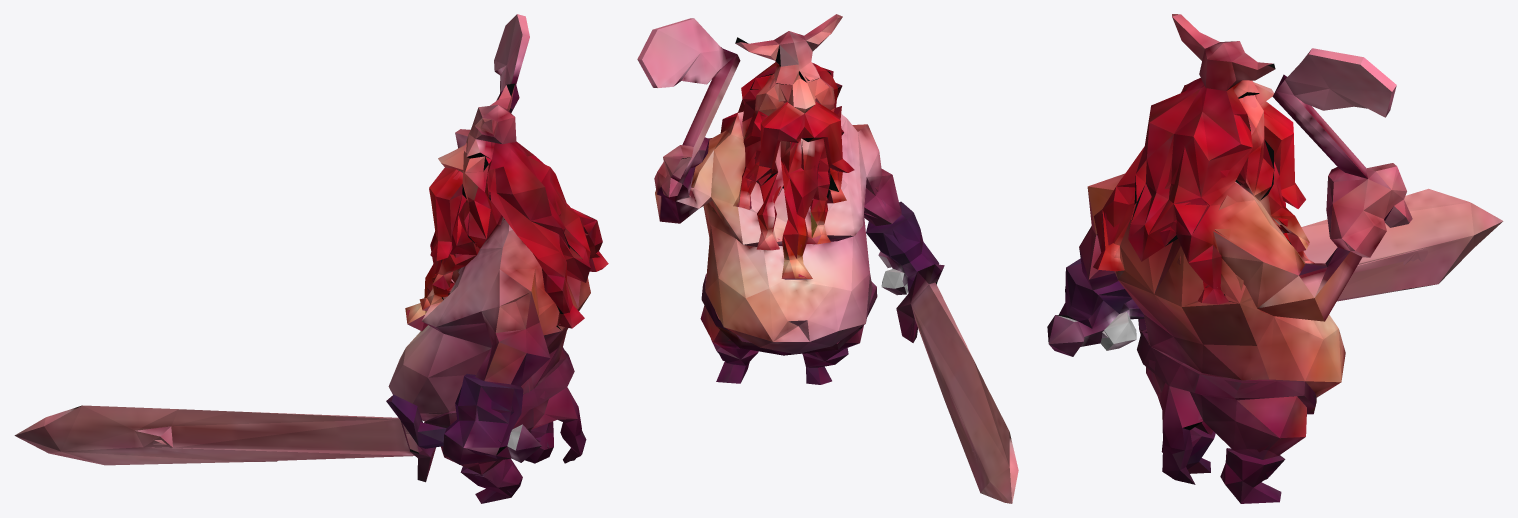
File: dwarf_LOD1.glb
3 renders of one model, left to right at view 1: azimuth 30°, elevation 25°; view 2: azimuth 150°, elevation 25°; view 3: azimuth 270°, elevation 25°, orthographic. The views are drawn at different scales.
Parts seen in each view (by area): view 1: dwarf_LOD1; view 2: dwarf_LOD1; view 3: dwarf_LOD1.
Boxes of the visible parts, x1,y1,x2,y2 form: dwarf_LOD1: [14, 14, 608, 503]; dwarf_LOD1: [637, 14, 1018, 503]; dwarf_LOD1: [1047, 14, 1503, 503].
Size of the model in its own units: 0.8637 by 0.7195 by 0.6355.
Materials: 1 (1 with a texture image).
